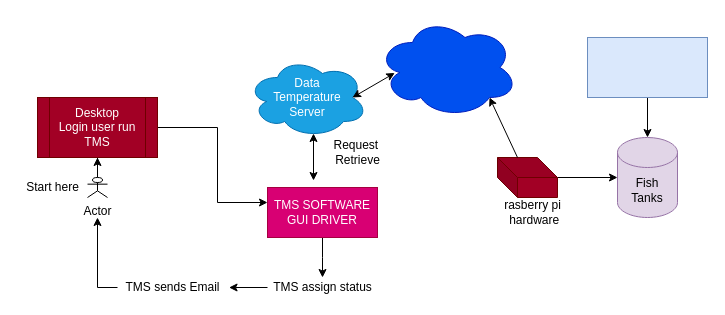
Image size: 725x315. Some labels were removed from this diagram. The shapes that lost their labels are listed below. From the top down, each one's centre as x and y in pixels, then its label:
point 447,67: Poulsbo Cyber Range
point 647,67: Sea Discovery Center
